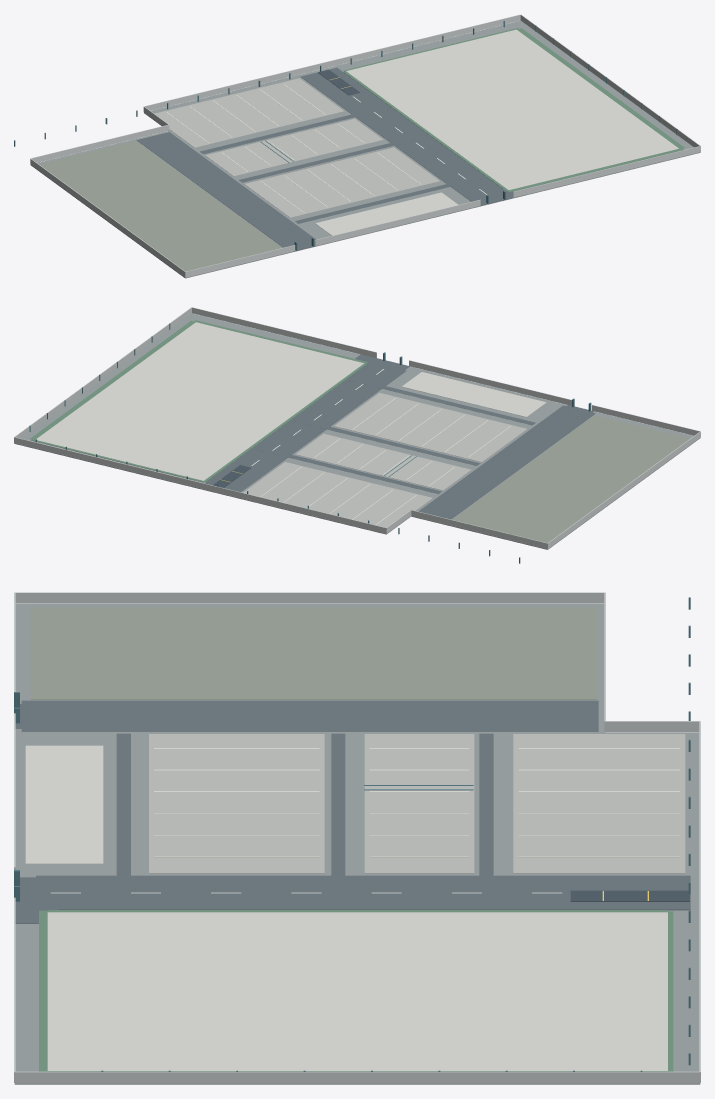
File: ground.glb
3 renders of one model, top to bottom at view 1: azimuth 30°, elevation 25°; view 2: azimuth 150°, elevation 25°; view 3: azimuth 270°, elevation 25°, orthographic. The views are drawn at different scales.
Visible parts, largest first — view 1: warehouse, waste_yard, Illustrative site parcel, south_open_yard, north_open_yard, Main north-south yard access, Waste-yard service lane, middle_open_yard, Perimeter wall 3, office, Perimeter wall 5-2, Perimeter wall 4 (+10 smaller); view 2: warehouse, waste_yard, Illustrative site parcel, south_open_yard, north_open_yard, Main north-south yard access, Waste-yard service lane, middle_open_yard, office, Perimeter wall 3, Perimeter wall 5-2, Perimeter wall 4 (+11 smaller); view 3: warehouse, waste_yard, Illustrative site parcel, south_open_yard, north_open_yard, Main north-south yard access, Waste-yard service lane, middle_open_yard, office, Perimeter wall 4, Perimeter wall 0, East-west yard access 452 (+9 smaller).
Part boxes in pixels (<box>): warehouse: <box>346,29,678,189</box>; waste_yard: <box>39,141,281,271</box>; Illustrative site parcel: <box>31,20,700,278</box>; south_open_yard: <box>244,147,439,217</box>; north_open_yard: <box>155,78,344,147</box>; Main north-south yard access: <box>300,67,502,201</box>; Waste-yard service lane: <box>136,132,315,247</box>; middle_open_yard: <box>205,118,383,176</box>; Perimeter wall 3: <box>144,14,520,110</box>; office: <box>315,192,458,235</box>; Perimeter wall 5-2: <box>513,146,700,197</box>; Perimeter wall 4: <box>520,14,700,147</box>; warehouse: <box>36,322,363,480</box>; waste_yard: <box>452,415,689,542</box>; Illustrative site parcel: <box>14,313,700,549</box>; south_open_yard: <box>334,393,526,462</box>; north_open_yard: <box>243,462,432,527</box>; Main north-south yard access: <box>204,366,406,492</box>; Waste-yard service lane: <box>418,405,595,519</box>; middle_open_yard: <box>295,433,471,490</box>; office: <box>401,372,546,417</box>; Perimeter wall 3: <box>14,437,386,533</box>; Perimeter wall 5-2: <box>192,307,376,357</box>; Perimeter wall 4: <box>14,307,191,438</box>; warehouse: <box>47,912,667,1070</box>; waste_yard: <box>30,607,596,699</box>; Illustrative site parcel: <box>14,604,700,1084</box>; south_open_yard: <box>149,734,324,873</box>; north_open_yard: <box>513,734,685,873</box>; Main north-south yard access: <box>36,875,690,910</box>; Waste-yard service lane: <box>21,700,598,731</box>; middle_open_yard: <box>364,734,474,873</box>; office: <box>25,745,103,863</box>; Perimeter wall 4: <box>14,1071,700,1083</box>; Perimeter wall 0: <box>15,592,605,603</box>; East-west yard access 452: <box>479,733,493,907</box>.
Size of the model in its own units: 170 by 2.7 by 103.
